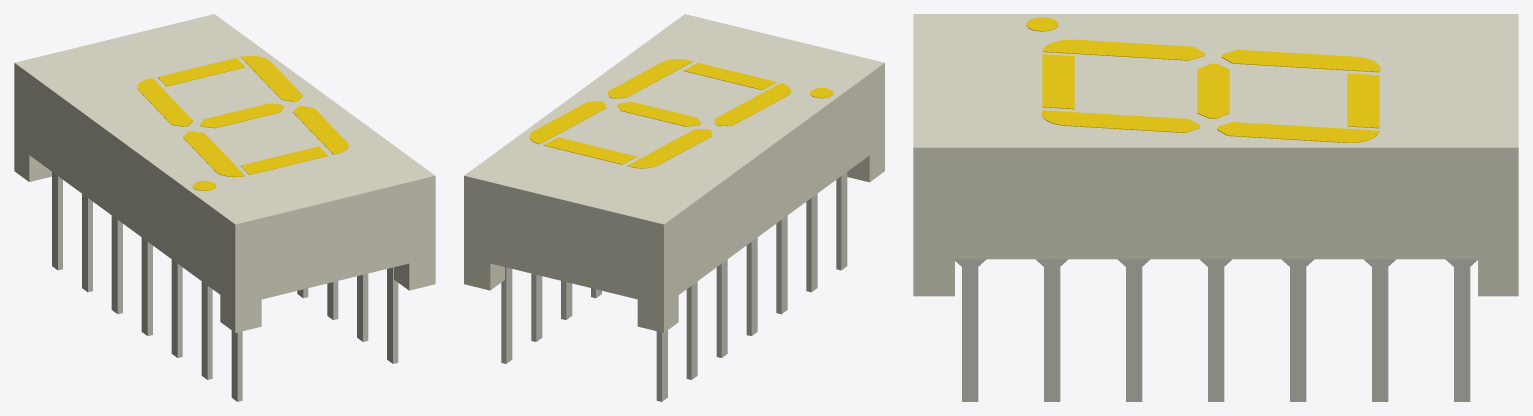
File: kc-man3820a.glb
3 renders of one model, left to right at view 1: azimuth 30°, elevation 25°; view 2: azimuth 150°, elevation 25°; view 3: azimuth 270°, elevation 25°, orthographic. The views are drawn at different scales.
Parts seen in each view (by area): view 1: 0.75_0.75_0.6666666666666666_0, 0.6666666666666666_0.6666666666666666_0.5833333333333334_0.8, 0.9166666666666666_0.6666666666666666_0_0; view 2: 0.75_0.75_0.6666666666666666_0, 0.6666666666666666_0.6666666666666666_0.5833333333333334_0.8, 0.9166666666666666_0.6666666666666666_0_0; view 3: 0.75_0.75_0.6666666666666666_0, 0.6666666666666666_0.6666666666666666_0.5833333333333334_0.8, 0.9166666666666666_0.6666666666666666_0_0.
Boxes of the visible parts, <box> form: 0.75_0.75_0.6666666666666666_0: <box>14,14,435,332</box>; 0.6666666666666666_0.6666666666666666_0.5833333333333334_0.8: <box>52,172,398,401</box>; 0.9166666666666666_0.6666666666666666_0_0: <box>137,55,348,190</box>; 0.75_0.75_0.6666666666666666_0: <box>464,14,884,332</box>; 0.6666666666666666_0.6666666666666666_0.5833333333333334_0.8: <box>501,172,847,401</box>; 0.9166666666666666_0.6666666666666666_0_0: <box>529,59,833,168</box>; 0.75_0.75_0.6666666666666666_0: <box>913,14,1518,296</box>; 0.6666666666666666_0.6666666666666666_0.5833333333333334_0.8: <box>955,259,1477,401</box>; 0.9166666666666666_0.6666666666666666_0_0: <box>1026,17,1380,142</box>.
Size of the model in its own units: 0.98 by 0.916 by 1.88.
